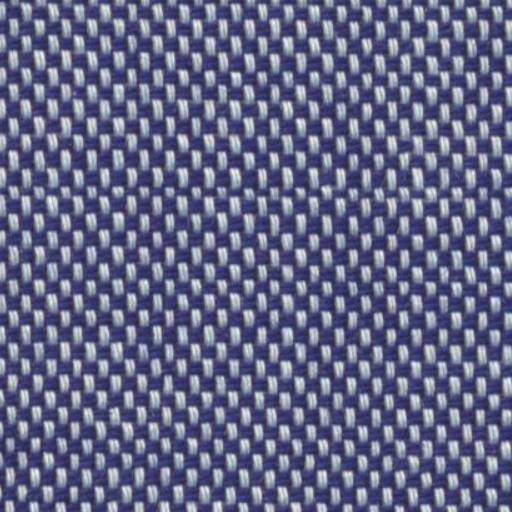TuoSha: (12, 155, 492, 236)
